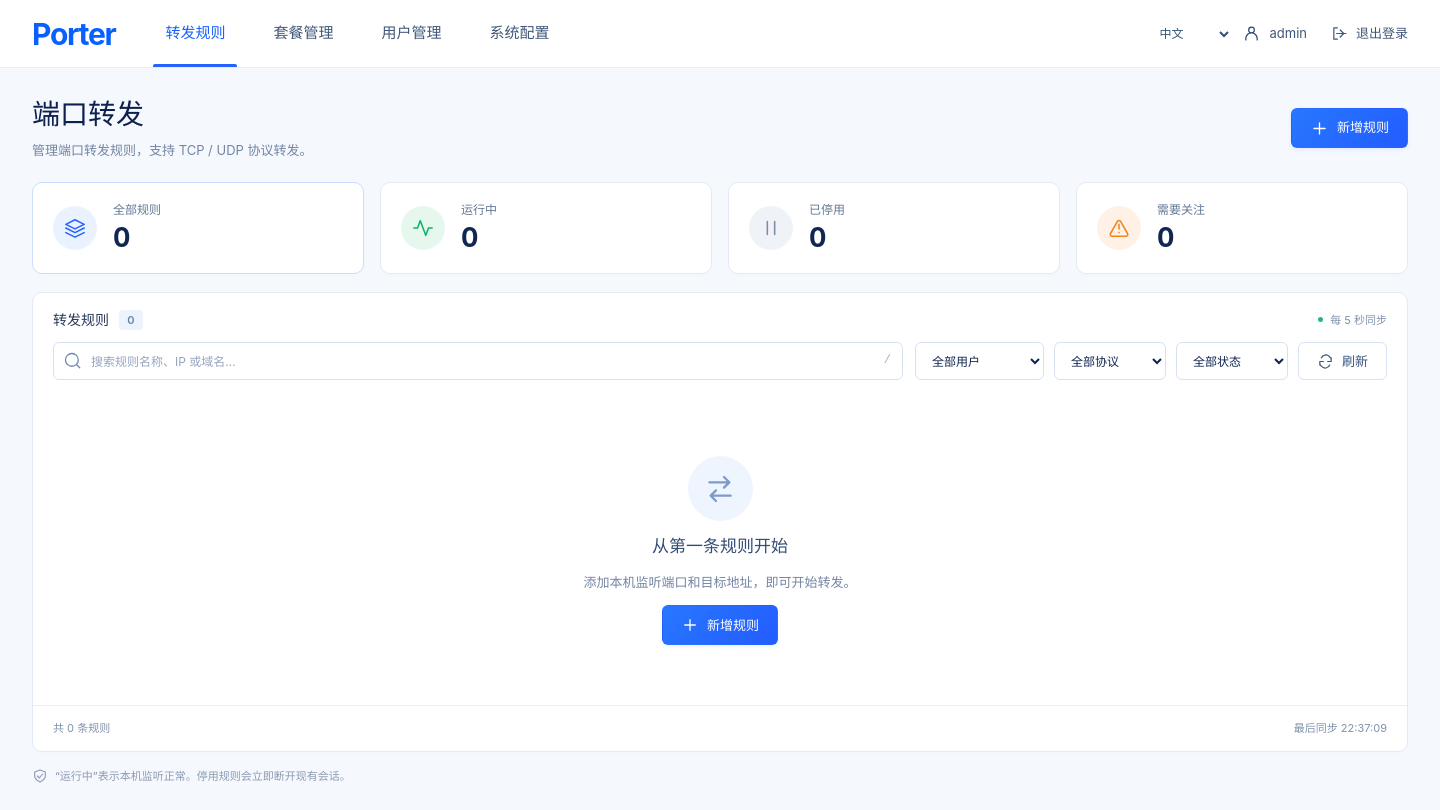
Test: 转发规则管理 › 新增 UDP 规则前校验端口，保存仅发送允许字段和 CSRF
This screenshot has width=1440, height=810.
Click the button "新增规则" in the row of "管理端口转发规则，支持 TCP / UDP 协议转发。" at (1350, 128), box [1291,108,1408,148]
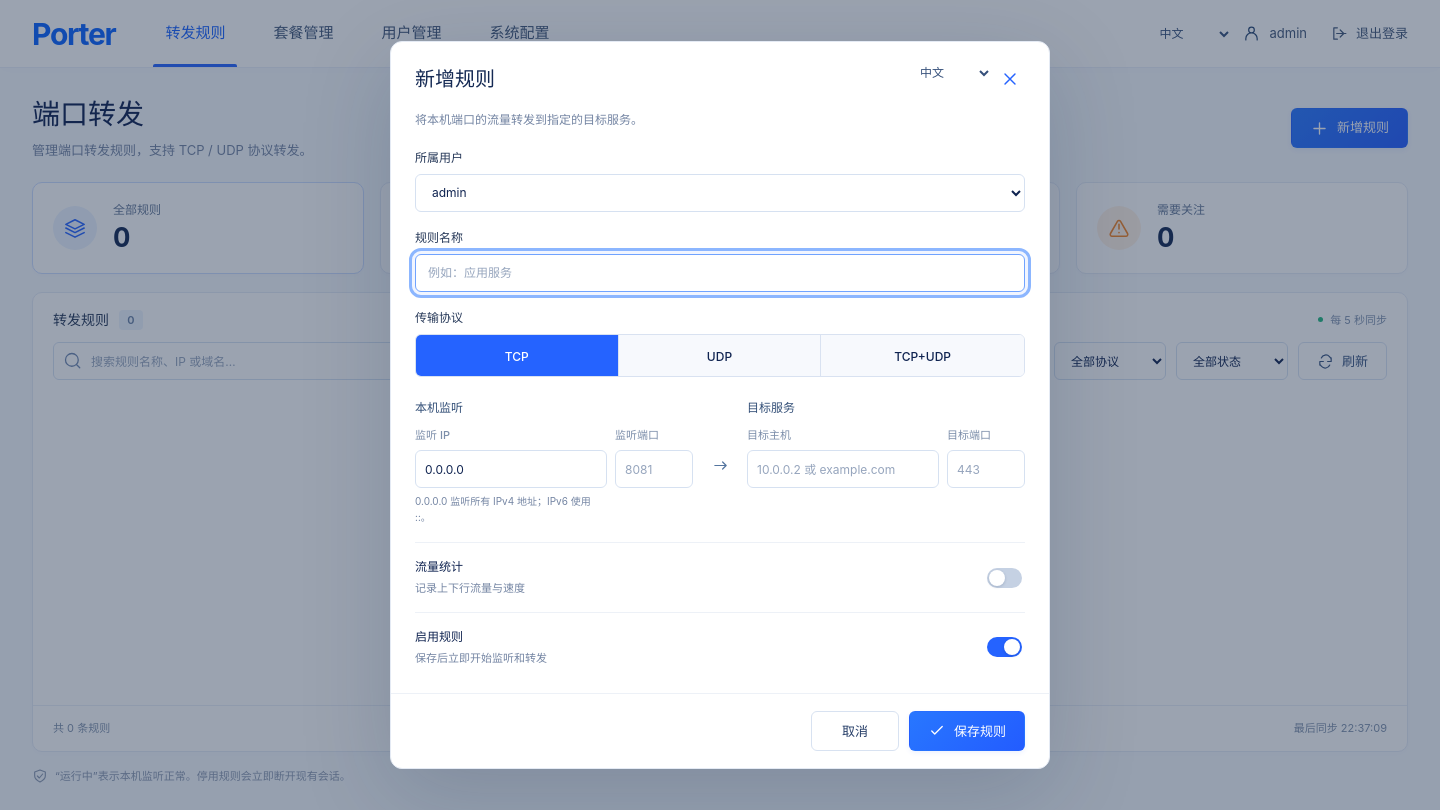
Submit the form with class "editor", box [391,42,1049,768]
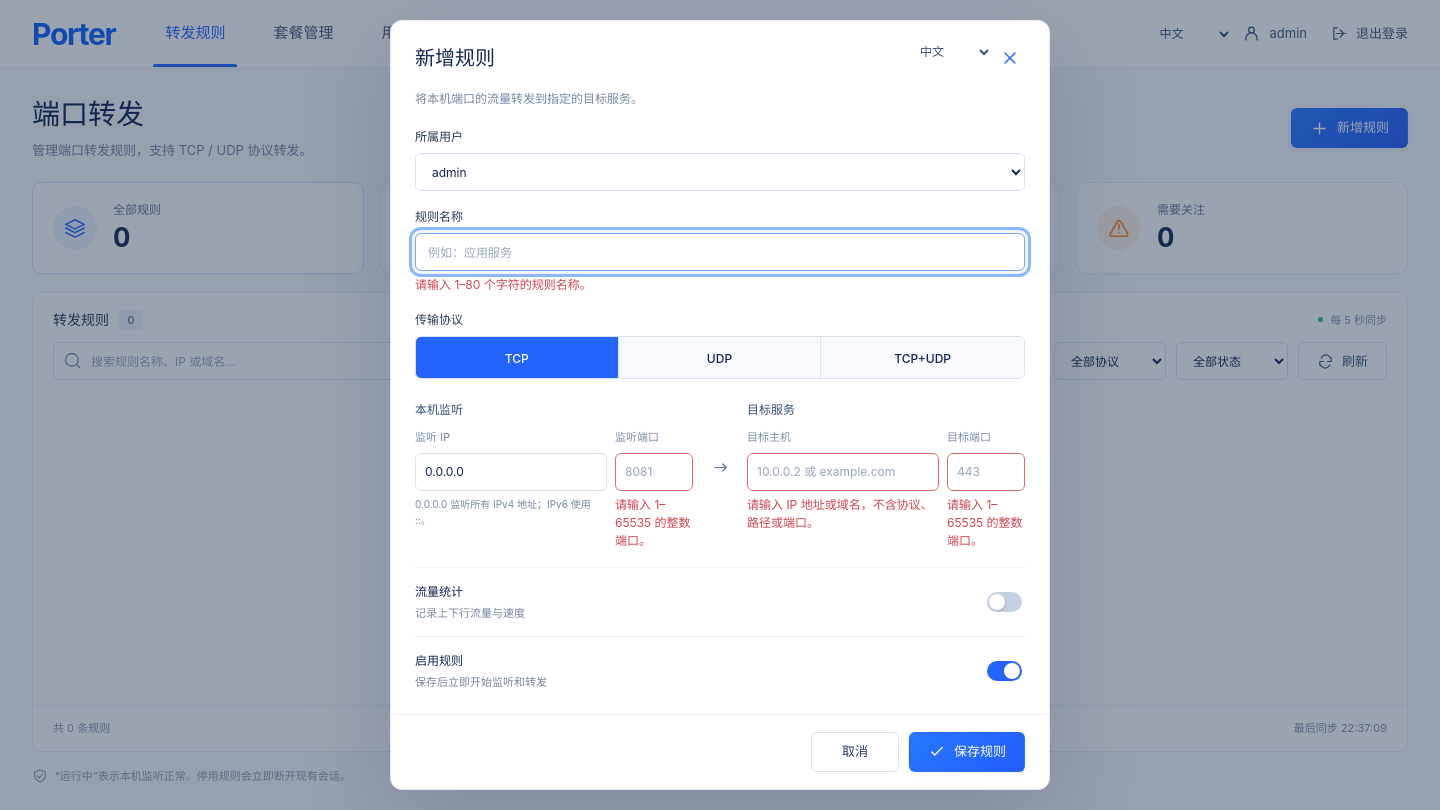
Check: the text "请输入 1–65535 的整数端口" is shown, box [615,496,691,548]
Type "DNS 入口" into the field with id "rule-name" at (720, 252), box [415,233,1025,271]
Type "5353" into the field with id "listen-port" at (654, 472), box [615,452,693,490]
Type "10.0.0.2" into the field with id "target-host" at (843, 472), box [747,452,939,490]
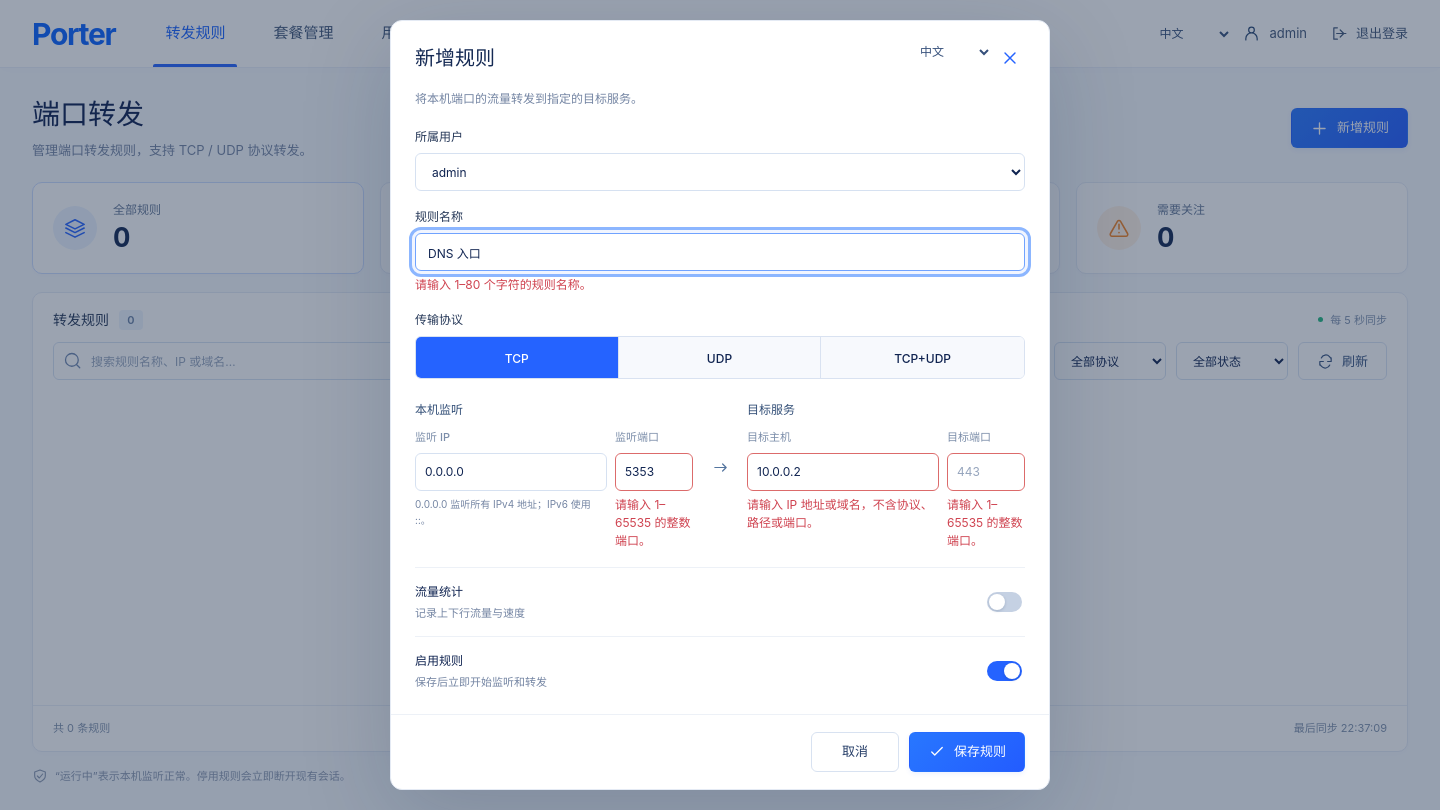
Type "53" into the field with id "target-port" at (986, 472), box [947,452,1025,490]
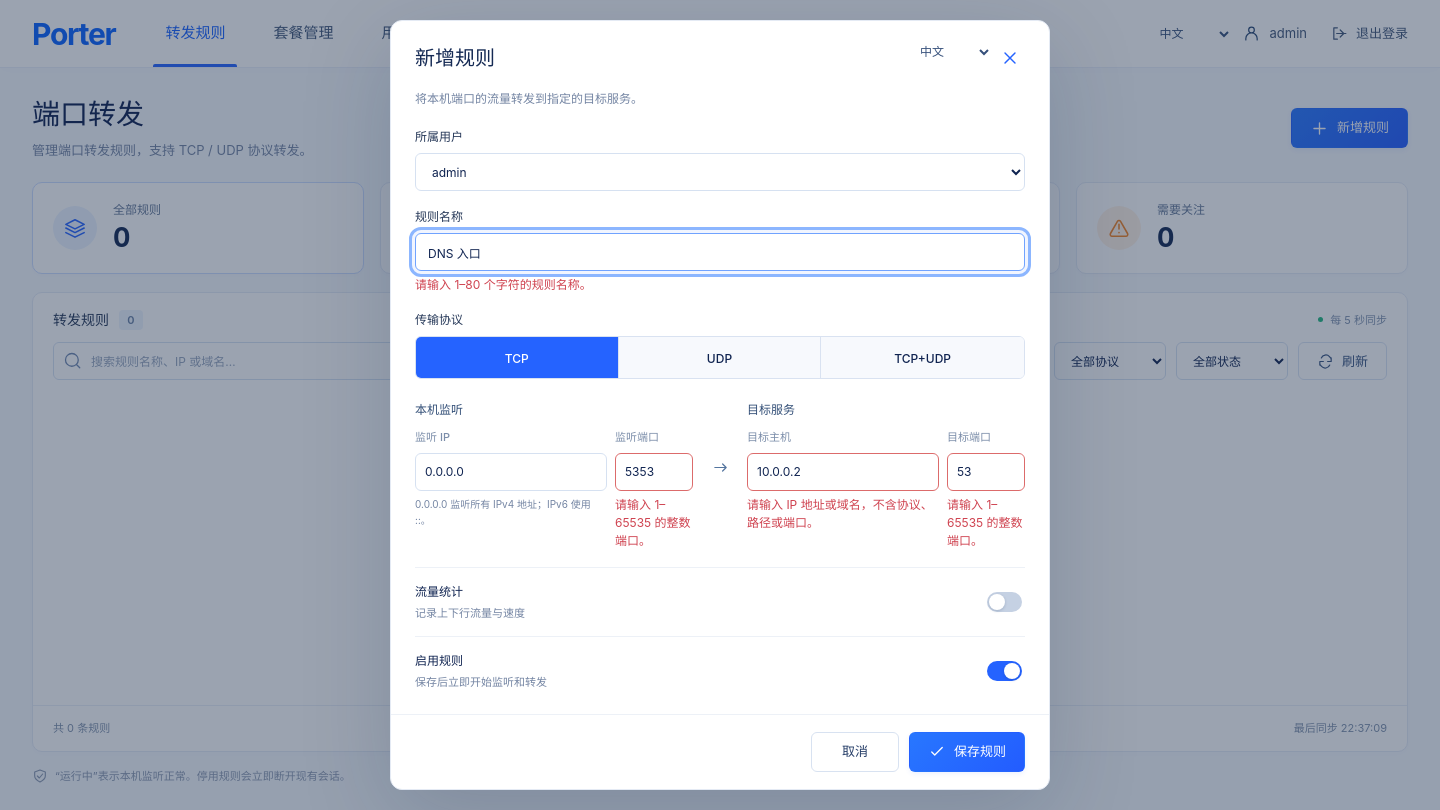
Click the radio button labelled "UDP" at (720, 358), box [619,337,821,378]
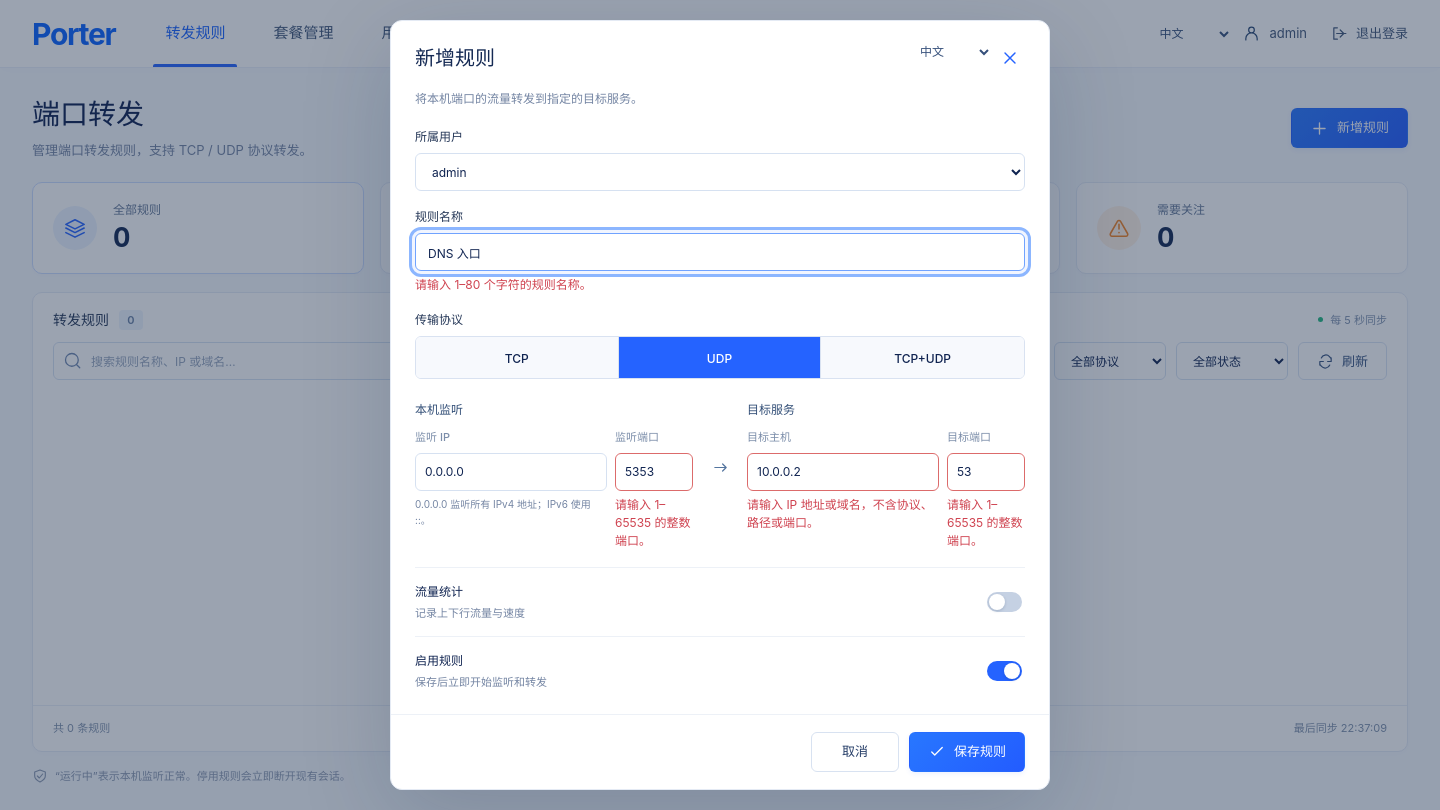
Submit the form with class "editor", box [391,21,1049,789]
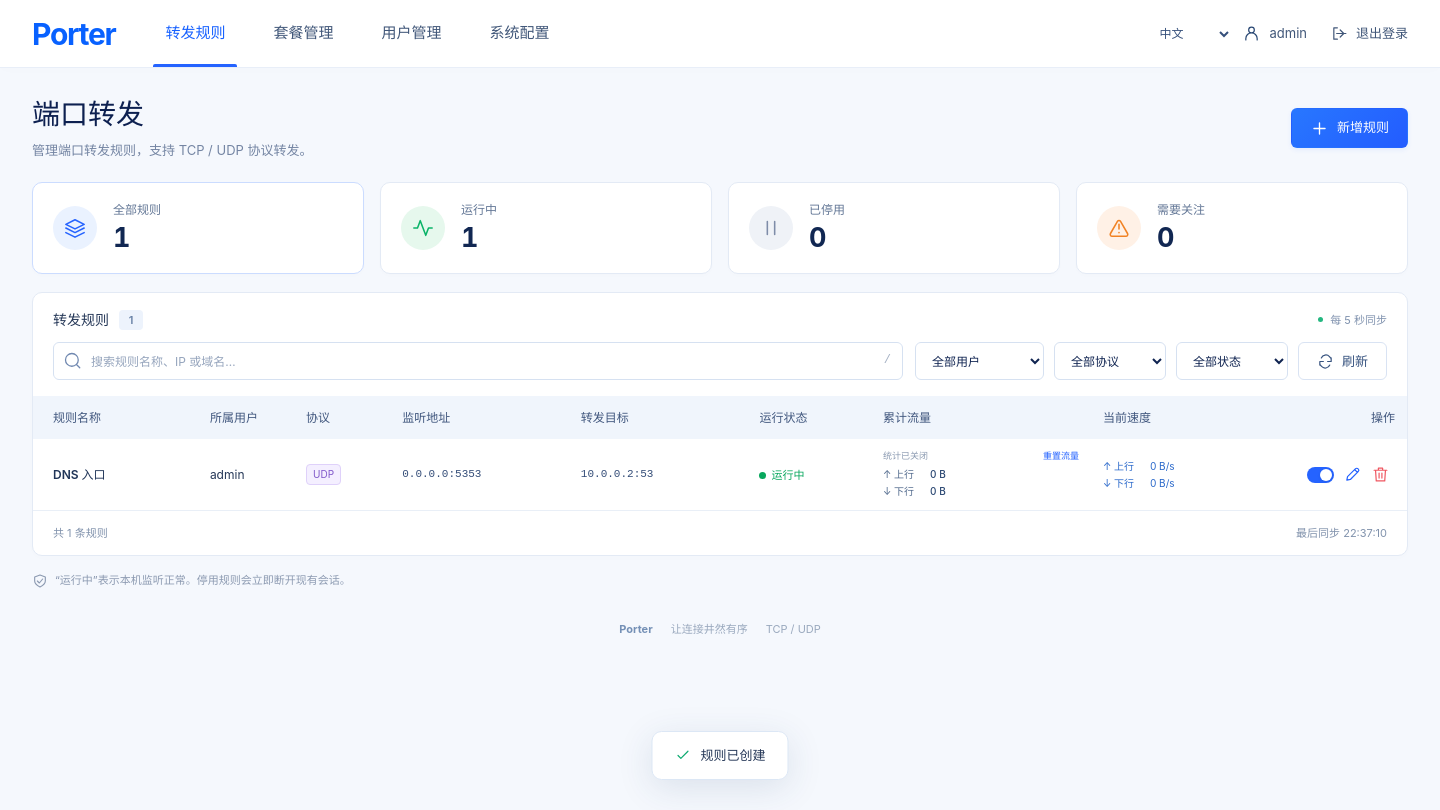
Check: the element with class "desktop-table" shows "DNS 入口", box [53,466,106,482]
